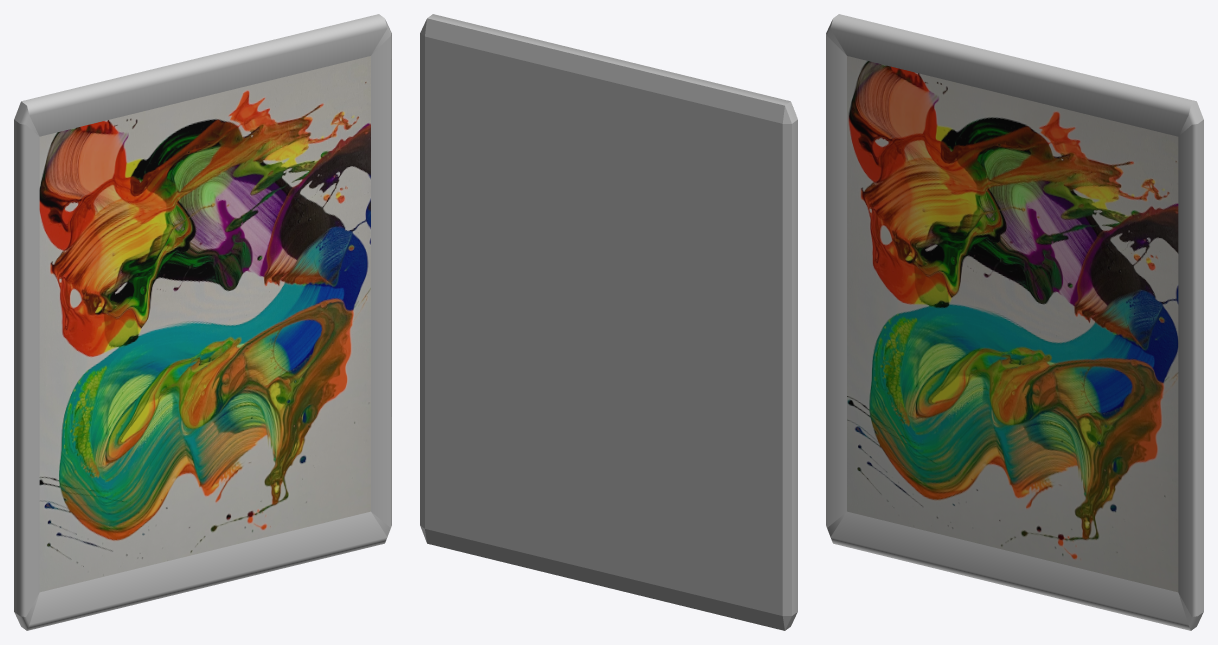
File: NikosSchizas.glb
The picture shows the model from 3 angles, left to right: view 1: azimuth 30°, elevation 25°; view 2: azimuth 150°, elevation 25°; view 3: azimuth 330°, elevation 25°; orthographic projection.
Visible parts, largest first — view 1: Plane, Mesh_1; view 2: Mesh_1; view 3: Plane, Mesh_1.
Part boxes in pixels (box(x1,y1,x2,y2)): Plane: box(39, 56, 370, 592); Mesh_1: box(14, 14, 391, 630); Mesh_1: box(420, 14, 797, 630); Plane: box(847, 56, 1178, 592); Mesh_1: box(826, 14, 1203, 630).
Bounding box in the file's own units: 1 × 1.35 × 0.05.
Materials: 2 (1 with a texture image).
